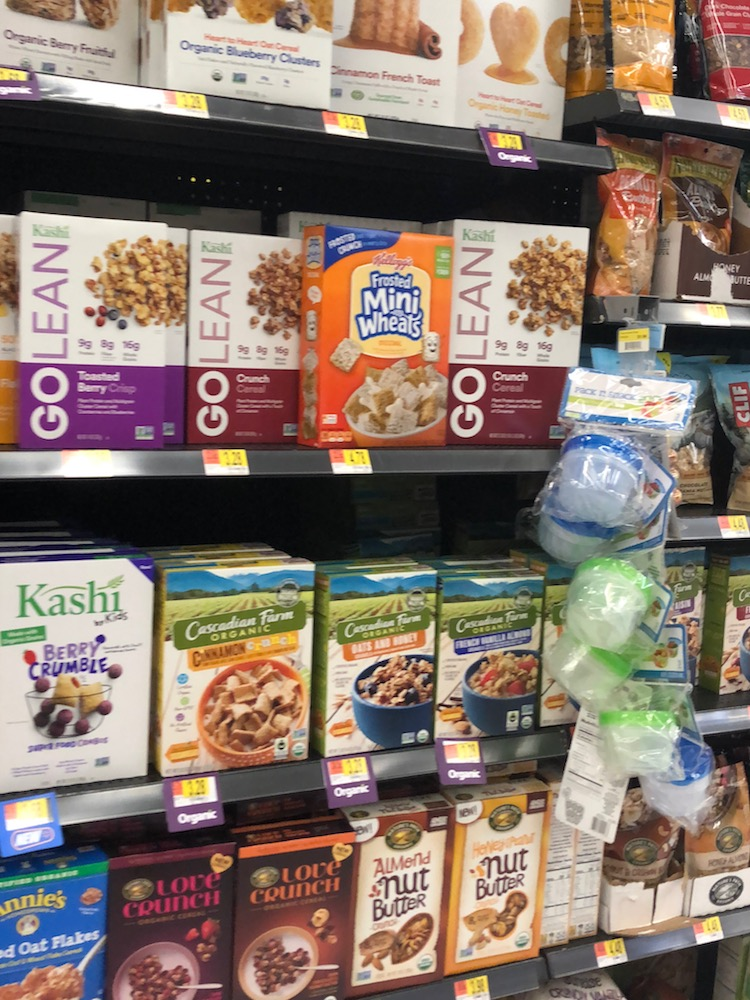Frosted Mini Original -9295869: (303, 221, 458, 447)
